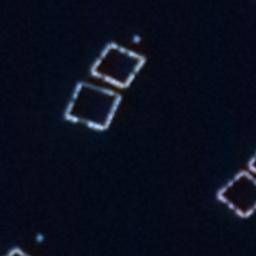square_solid: (61, 78, 125, 136), (86, 40, 149, 93), (214, 167, 256, 221)
